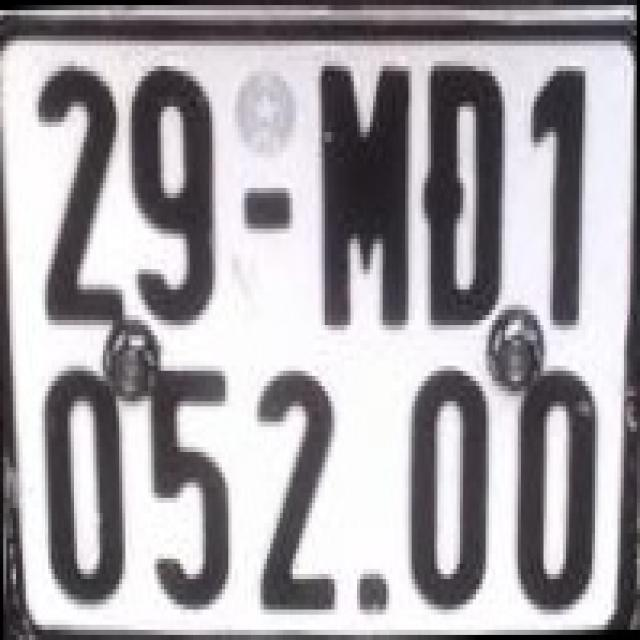0: (512, 360, 598, 610), (405, 360, 489, 610), (42, 360, 128, 604)
1: (524, 56, 595, 330)
2: (32, 56, 126, 330), (251, 356, 341, 614)
5: (144, 356, 234, 610)
9: (125, 56, 222, 330)
D: (424, 61, 505, 330)
M: (307, 43, 413, 328)
